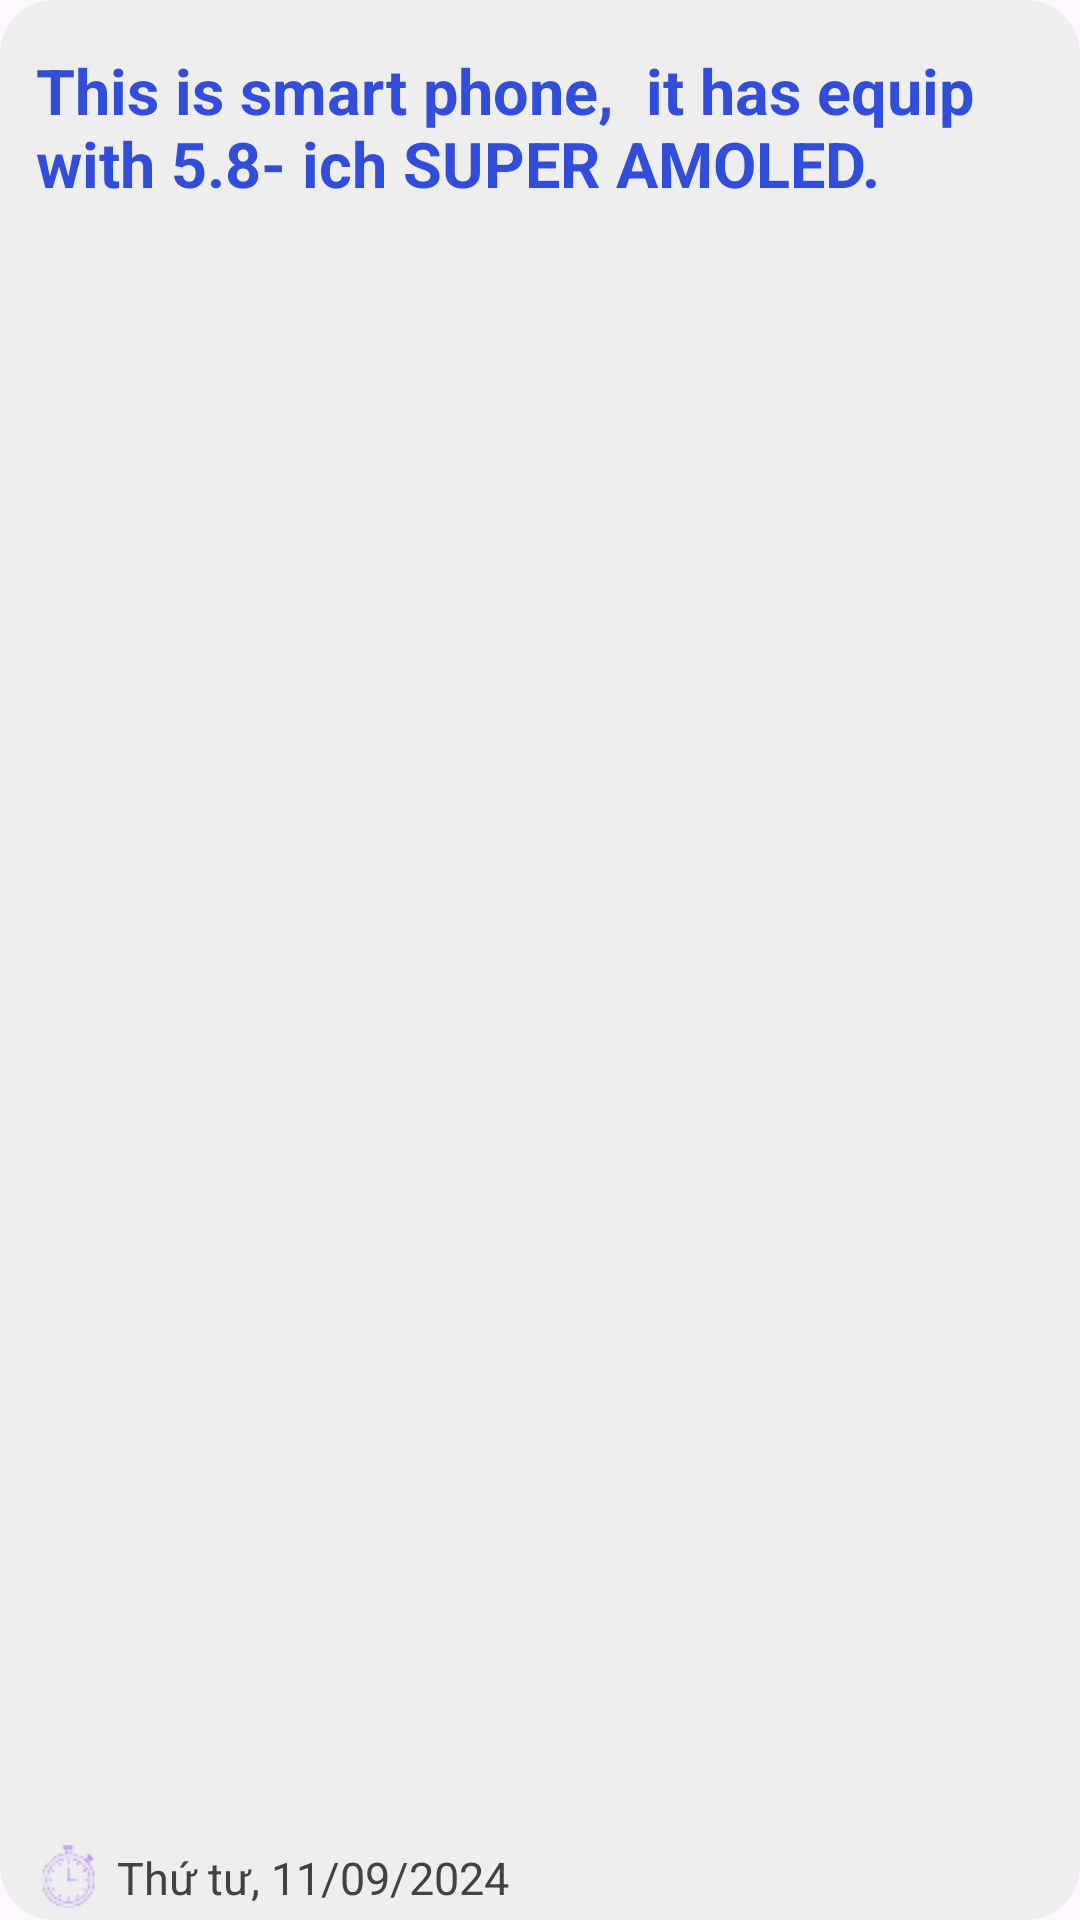

Named icons in this screenshot (1080px×1920px) and their bounding boxes, (x1, y1, x2, y2):
clock: (42, 1845, 95, 1908)
